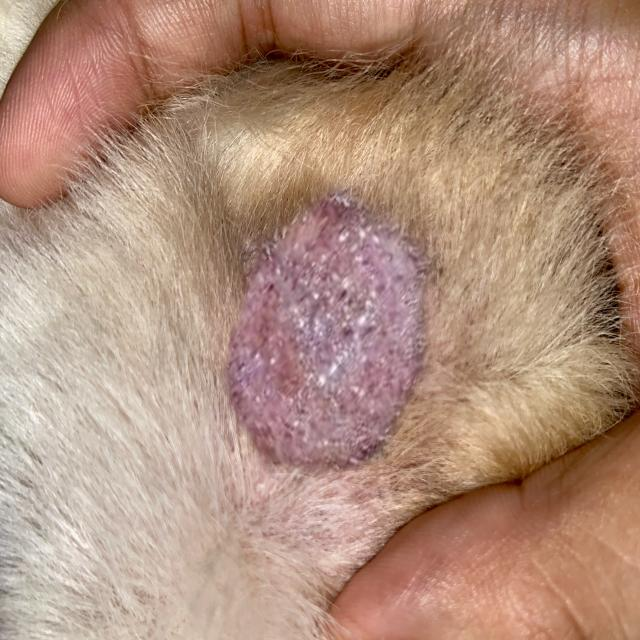ringworm: (193, 178, 481, 496)
